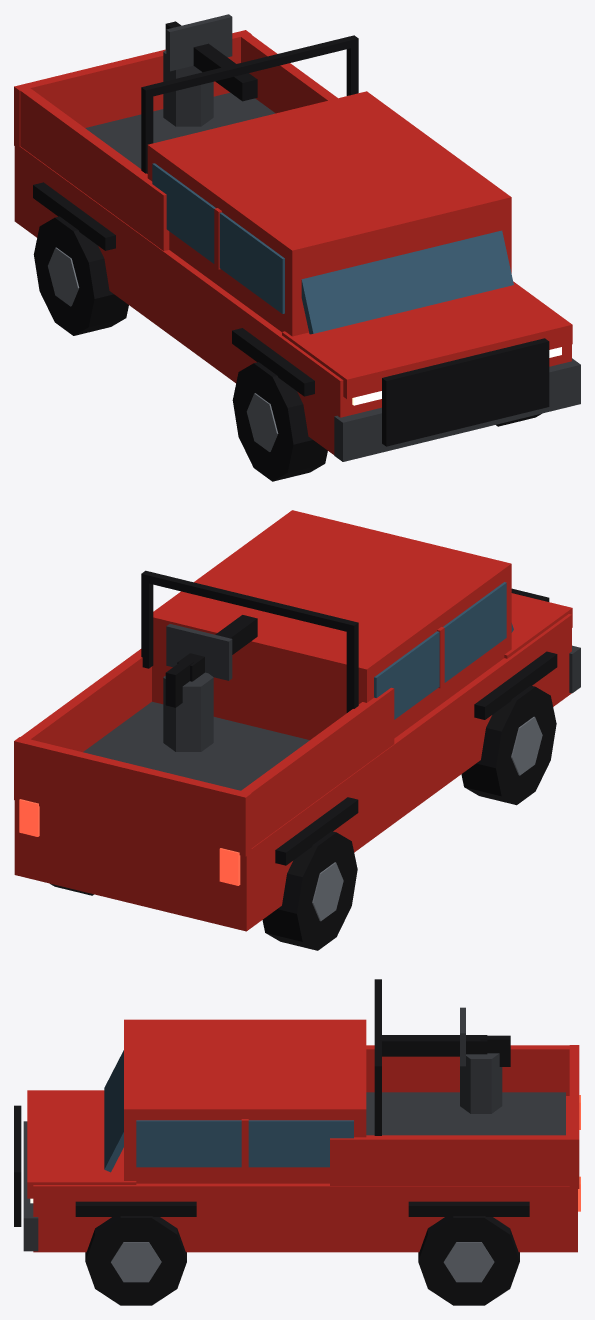
The model's file is Chuto camioneta.fbx.
3 renders of one model, top to bottom at view 1: azimuth 30°, elevation 25°; view 2: azimuth 150°, elevation 25°; view 3: azimuth 270°, elevation 25°, orthographic. The views are drawn at different scales.
Parts seen in each view (by area): view 1: Carroceria.001, Rueda 1.001, Rueda 2.001, Torreta.001; view 2: Carroceria.001, Torreta.001, Rueda 2.001, Rueda 1.001; view 3: Carroceria.001, Rueda 4.001, Rueda 3.001, Torreta.001.
Part boxes in pixels (x1,y1,x2,y2): Carroceria.001: (14, 30, 580, 461); Rueda 1.001: (232, 362, 327, 481); Rueda 2.001: (33, 216, 128, 335); Torreta.001: (163, 14, 257, 126); Carroceria.001: (14, 510, 580, 931); Torreta.001: (163, 615, 257, 751); Rueda 2.001: (262, 831, 357, 950); Rueda 1.001: (461, 685, 556, 805); Carroceria.001: (14, 979, 580, 1252); Rueda 4.001: (418, 1216, 519, 1305); Rueda 3.001: (85, 1216, 186, 1305); Torreta.001: (382, 1007, 510, 1113).
Bounding box in the file's own units: 2.12 × 2.11 × 4.69.
